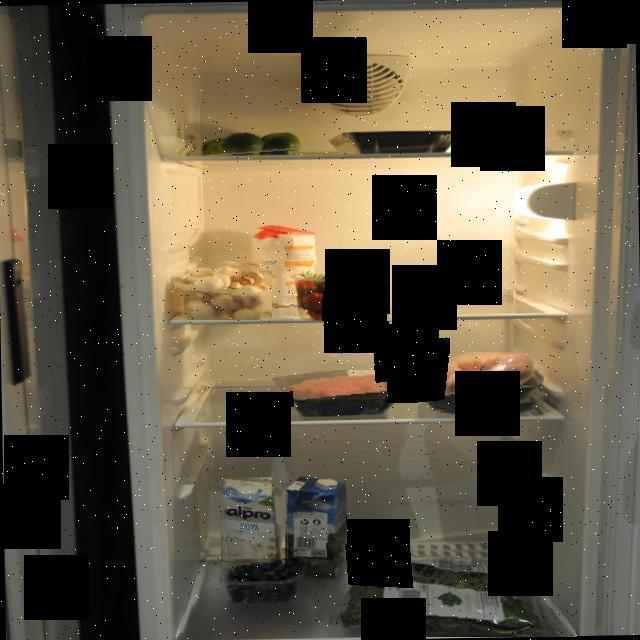blueberries: (220, 560, 300, 602)
chicken: (418, 352, 548, 414)
ground_beef: (280, 371, 388, 408)
lime: (196, 132, 301, 157)
milk: (285, 475, 347, 578), (219, 474, 282, 570)
mushrooms: (176, 257, 272, 320)
spinach: (326, 543, 576, 637)
strawberries: (290, 261, 394, 321)
sugar: (251, 220, 318, 308)
